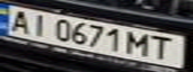0: (48, 16, 75, 43)
1: (103, 25, 124, 53)
6: (66, 20, 90, 46)
7: (84, 22, 106, 50)
A: (3, 7, 33, 34)
I: (24, 11, 54, 37)
M: (127, 29, 154, 57)
T: (148, 34, 181, 61)
